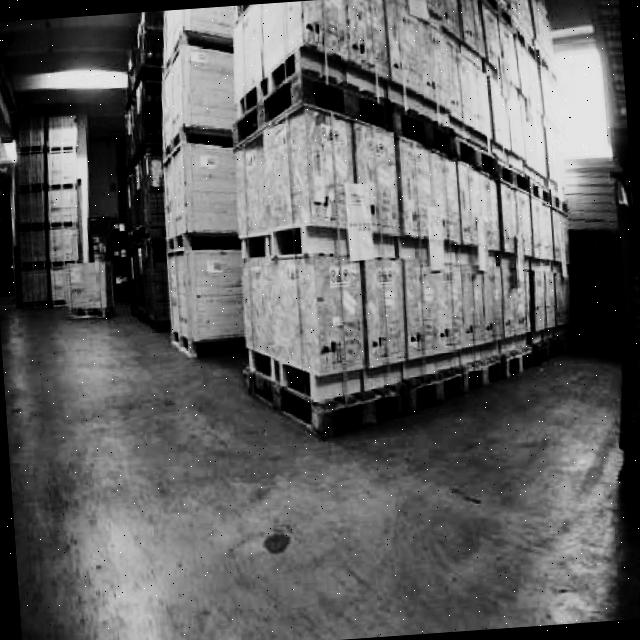ground: (0, 249, 640, 640)
pallet: (110, 0, 585, 451), (242, 324, 577, 444), (147, 5, 259, 360), (109, 10, 186, 332), (5, 110, 92, 309), (601, 187, 640, 490), (63, 257, 118, 319), (621, 272, 640, 431)
